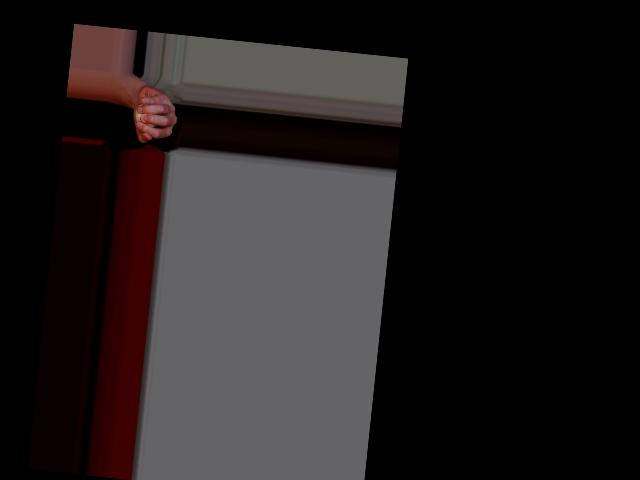egg: (133, 103, 159, 130)
